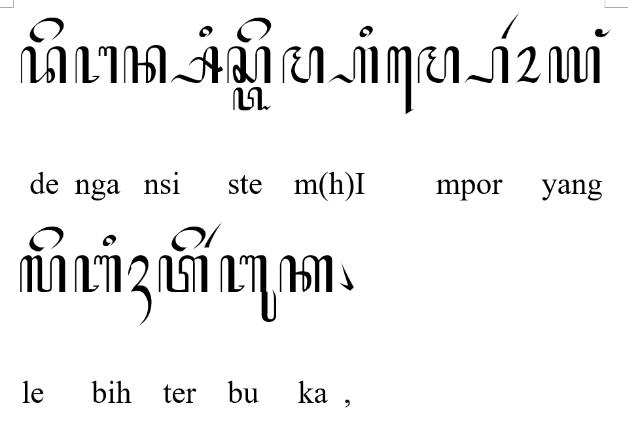_h: (328, 46, 378, 84), (128, 255, 152, 327)
_p: (464, 46, 510, 84)
_r1: (500, 12, 520, 40), (204, 223, 222, 249)
_s: (170, 44, 224, 84)
_t: (232, 86, 272, 112)
b: (75, 255, 122, 293)
bu: (220, 255, 276, 323)
d: (19, 46, 66, 84)
e: (236, 16, 272, 44), (30, 16, 64, 44), (170, 226, 206, 252), (30, 226, 64, 252)
e1: (386, 45, 414, 115)
i: (198, 24, 214, 38), (359, 26, 373, 38), (102, 235, 116, 247)
k: (279, 255, 333, 294)
kom: (338, 260, 354, 292)
l: (19, 255, 66, 293)
m: (282, 46, 324, 84), (418, 46, 460, 84)
n: (123, 44, 167, 84)
ng: (594, 28, 612, 38)
nga: (74, 46, 118, 84)
o: (514, 46, 542, 84)
s: (226, 46, 272, 84)
t: (158, 255, 208, 293)
y: (548, 46, 600, 84)
